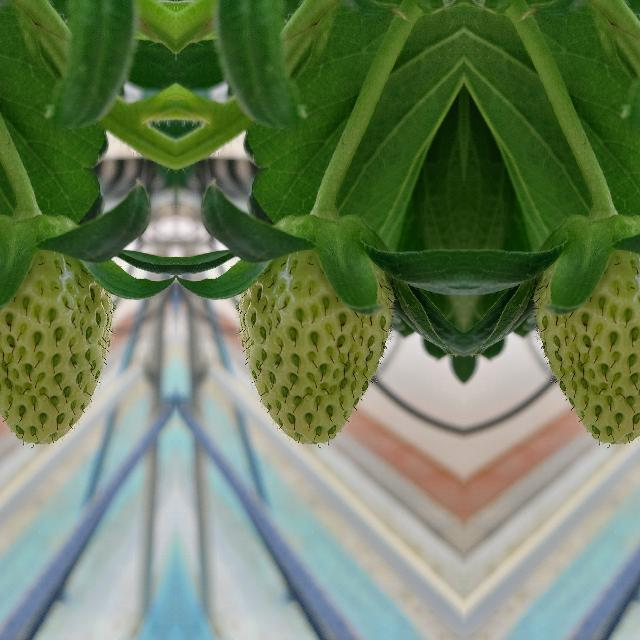Health_25: (234, 247, 396, 449), (0, 247, 115, 449), (530, 247, 640, 449)
